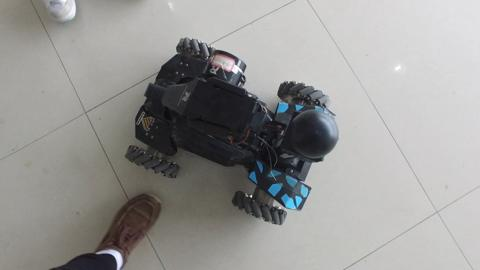chariot: (114, 35, 341, 225)
